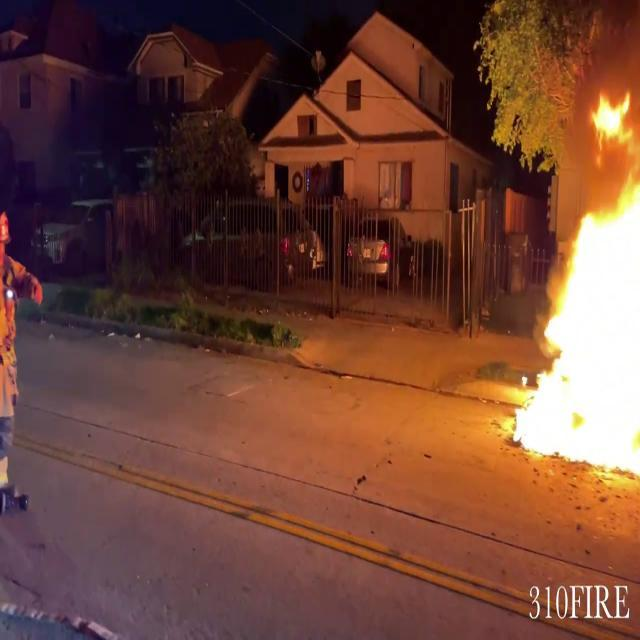Fire: (504, 88, 640, 484)
